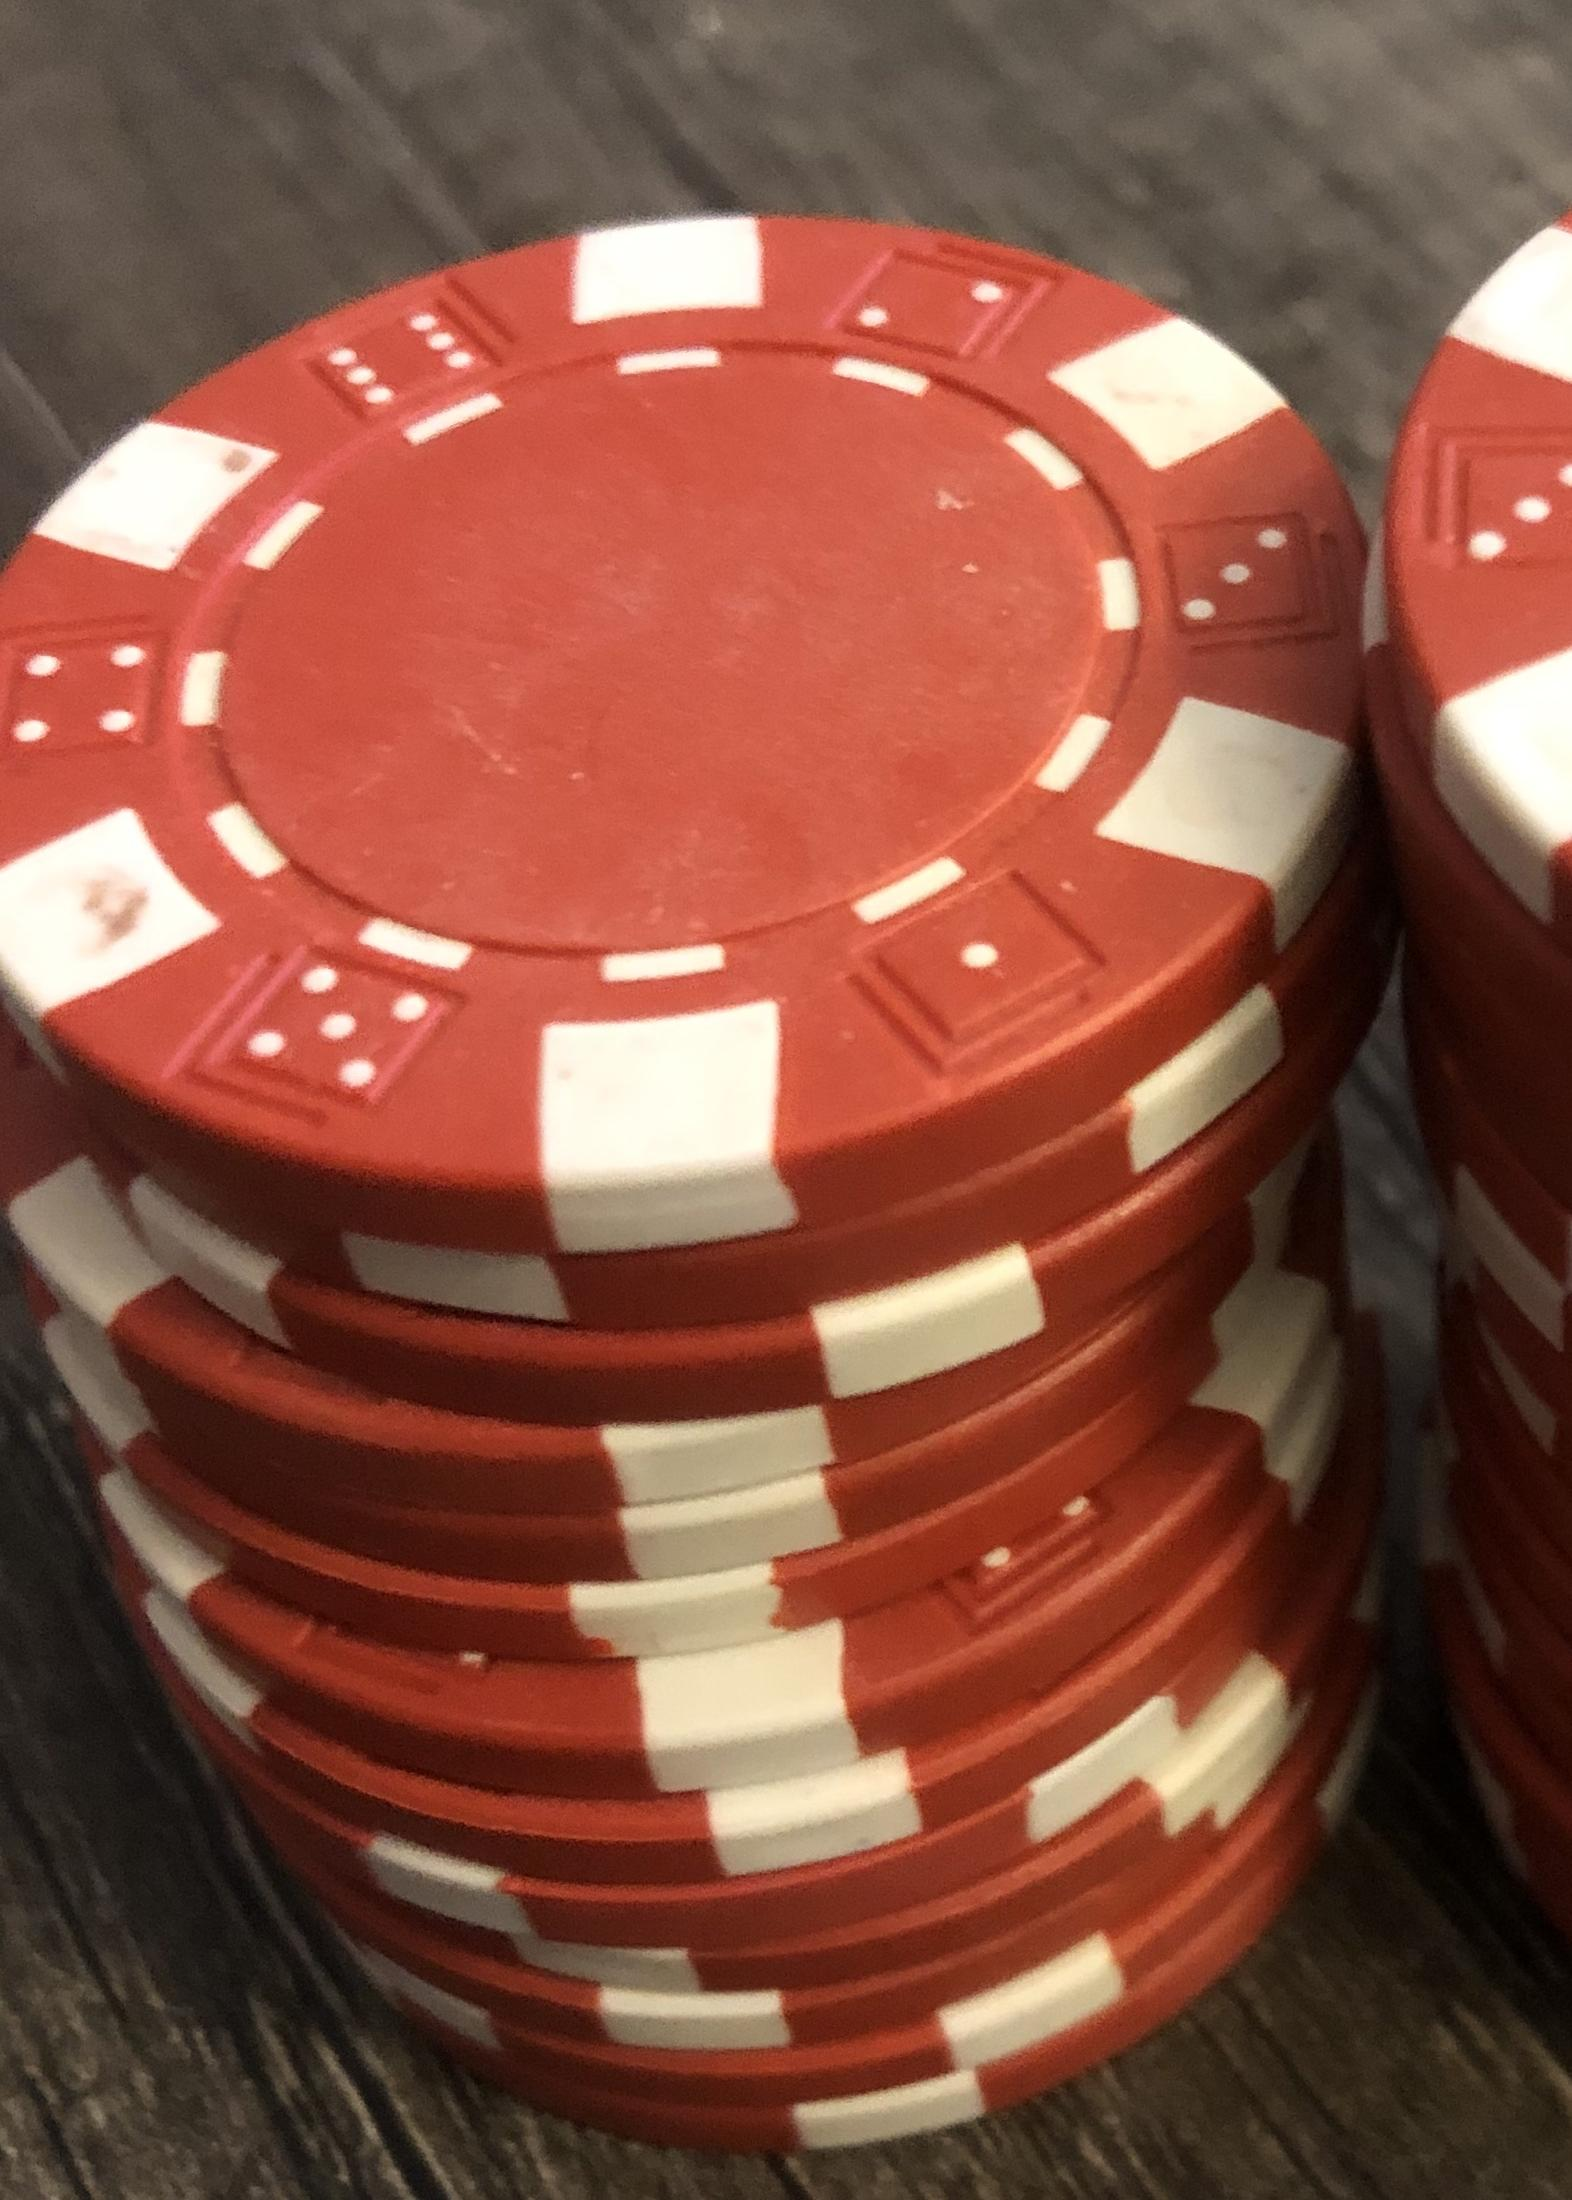Chip: (2, 2, 1572, 2200)
